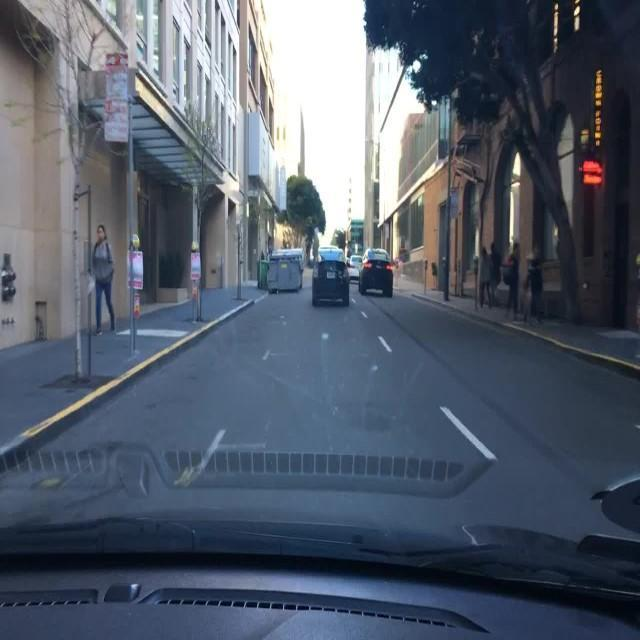normal: (311, 248, 352, 306), (260, 249, 304, 294), (347, 253, 364, 277)
